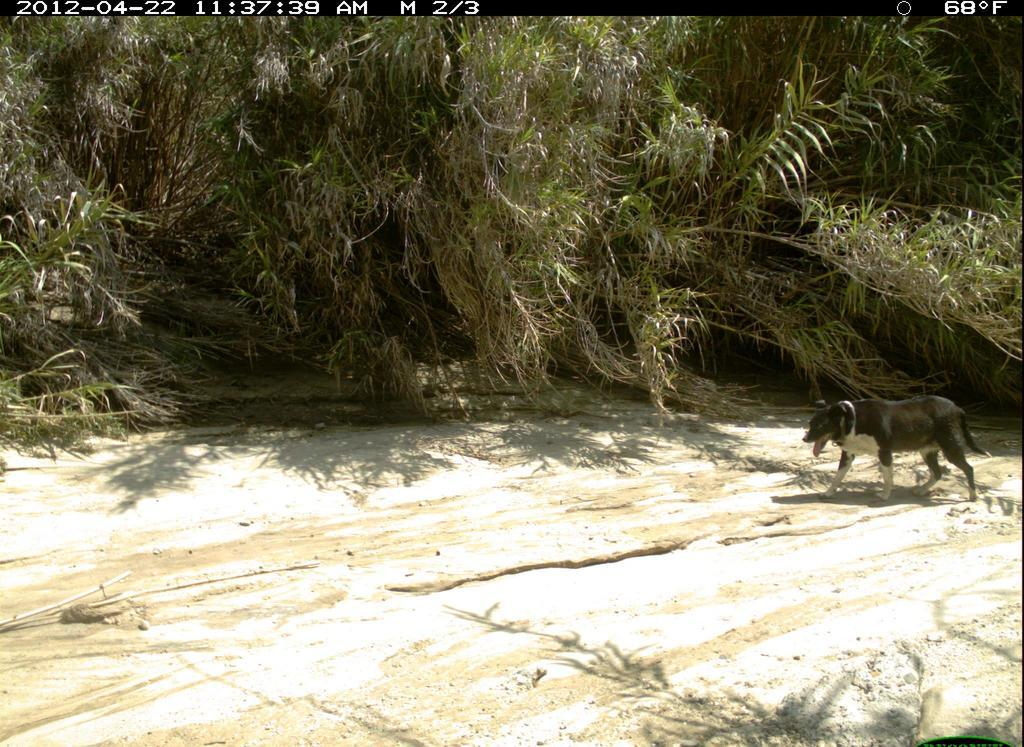dog: (793, 388, 995, 510)
